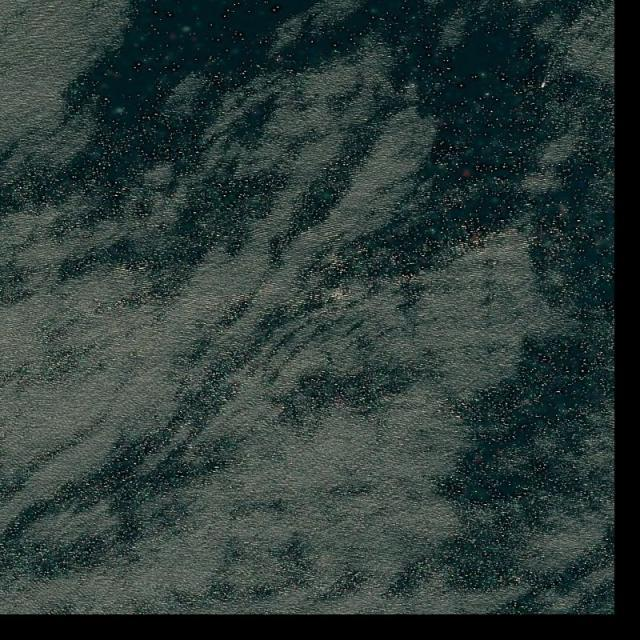ship: (541, 82, 546, 90)
